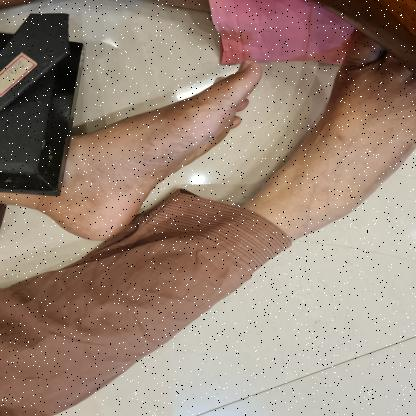leg: (0, 51, 269, 248), (244, 20, 416, 242)
